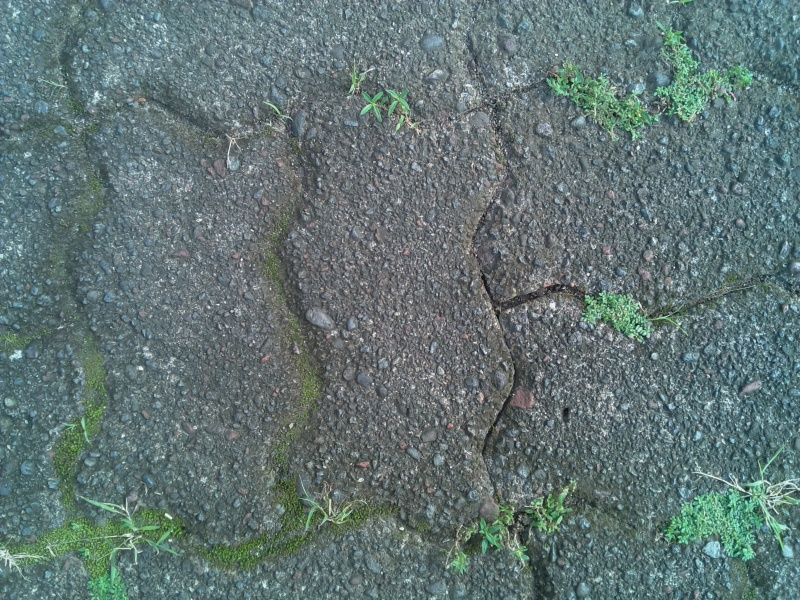Weed: (659, 470, 798, 575), (652, 21, 754, 127), (550, 64, 652, 152), (82, 492, 172, 565), (577, 282, 661, 345), (437, 504, 513, 573), (295, 484, 357, 545), (520, 488, 581, 543), (261, 96, 299, 134), (63, 408, 96, 449), (382, 84, 416, 122), (357, 89, 387, 127), (338, 64, 370, 97)
